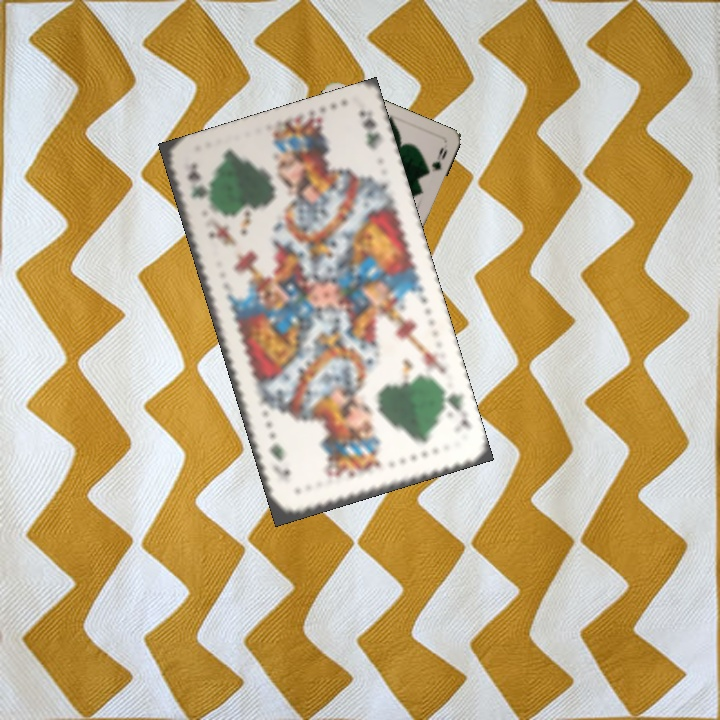GK: (438, 386, 472, 432), (183, 159, 209, 201)
